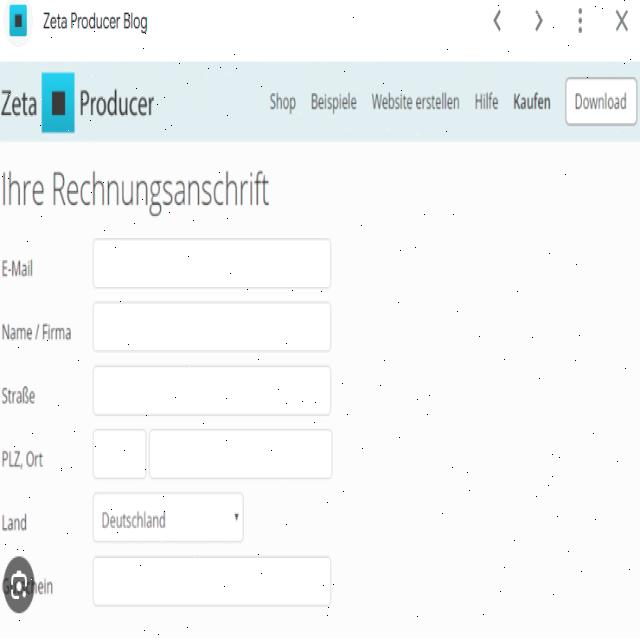button: (563, 72, 640, 131), (605, 0, 640, 41), (569, 0, 591, 40), (529, 2, 547, 39), (490, 4, 506, 38)
dropdownMenu: (91, 488, 245, 545)
icon: (0, 62, 77, 142), (0, 0, 36, 50)
input: (90, 230, 335, 292), (93, 551, 333, 614), (91, 298, 334, 357), (90, 360, 333, 418), (148, 425, 334, 487), (91, 424, 147, 483)
label: (0, 164, 278, 219), (40, 0, 162, 35), (78, 82, 160, 124), (367, 81, 463, 115), (0, 311, 77, 352), (0, 568, 65, 616), (0, 443, 51, 483), (307, 84, 358, 118), (0, 379, 41, 417), (510, 84, 553, 120), (266, 81, 301, 119), (0, 250, 41, 281), (0, 504, 35, 540), (469, 82, 503, 118)
menu: (257, 65, 561, 138)
